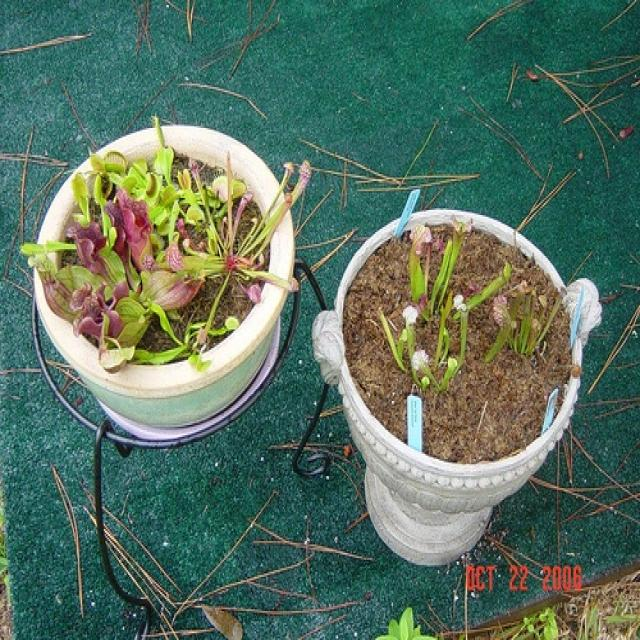pottedplant: (313, 193, 603, 566), (27, 114, 312, 444)
